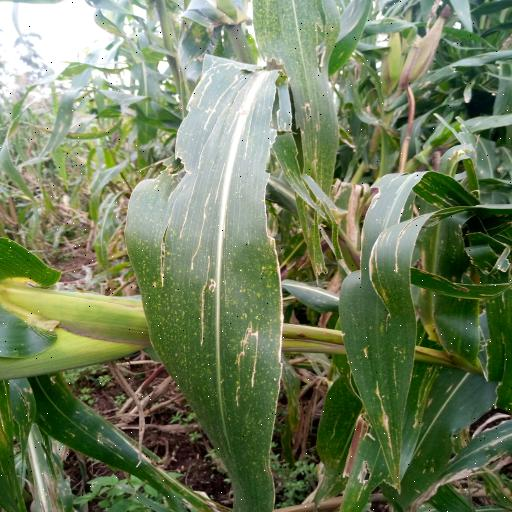Corn_Yellow_Spots: (132, 62, 292, 512)
